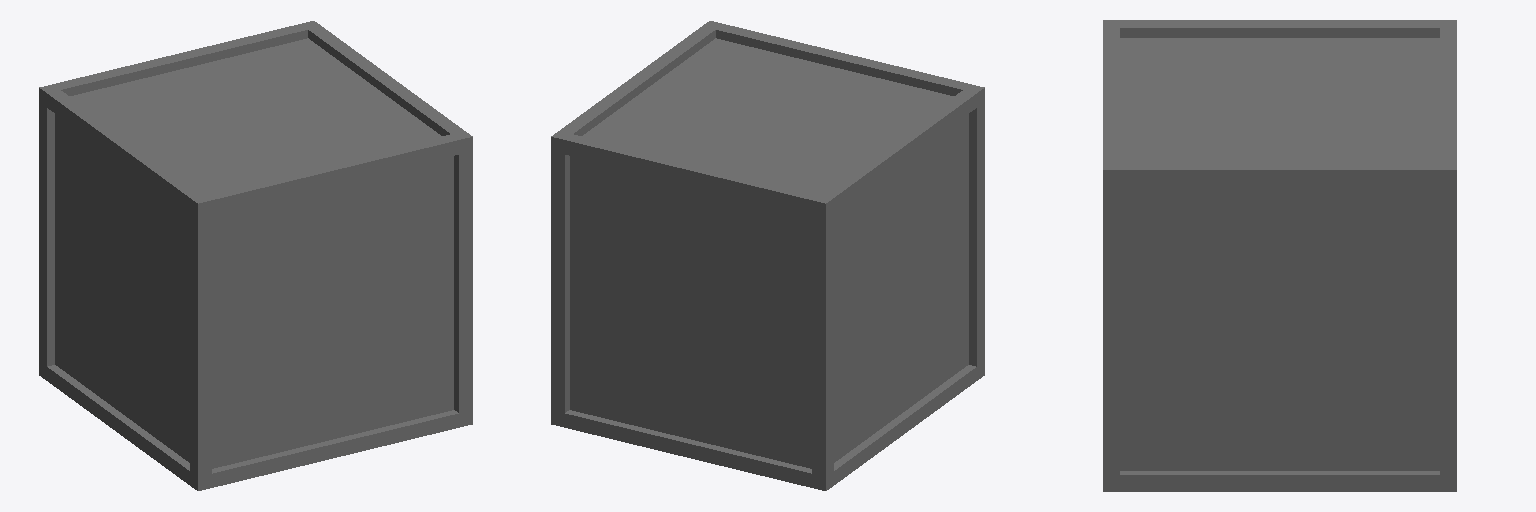
URDF robot description (cargo):
<?xml version="1.0"?>
<robot name="cargo">
  <link name="cargo">
    <visual>
      <geometry>
        <mesh filename="package://ocs2_multi_robot/assets/robot/b1z1_description/meshes/box.stl"/>
      </geometry>
      <material name="grey">
        <color rgba="0.5 0.5 0.5 1"/>
      </material>
    </visual>
    <inertial>
      <mass value="1"/>
      <inertia ixx="0.001" ixy="0" ixz="0" iyy="0.001" iyz="0" izz="0.001" />
    </inertial>
  </link>
</robot>

--- Facts derived from the render (not from the file) ---
Views: 3 orthographic renders of the robot side by side, from view 1: azimuth 30°, elevation 25°; view 2: azimuth 150°, elevation 25°; view 3: azimuth 270°, elevation 25°.
Robot: cargo — 1 links, 0 joints (none); root link cargo; default pose: every joint at zero.
Visible links, largest first — view 1: cargo; view 2: cargo; view 3: cargo.
Boxes of the visible links, x1=… form: cargo: x1=39, y1=21, x2=472, y2=490; cargo: x1=551, y1=21, x2=984, y2=490; cargo: x1=1103, y1=20, x2=1456, y2=491.
Bounding box of the posed robot: 1 × 1 × 1 m (x, y, z).
Meshes: 1 distinct files referenced, 1 mesh visuals loaded (1 binary STL).
